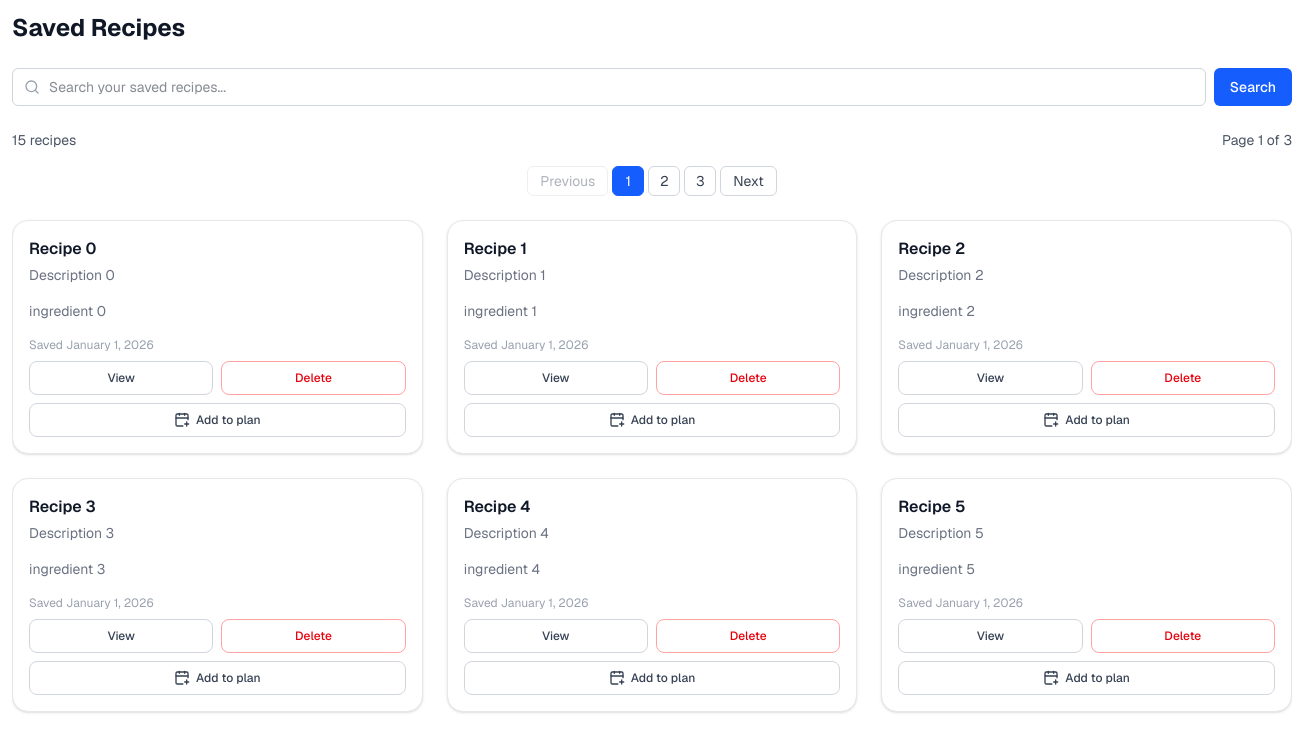
it: RecipesPage › resets to page 1 and filters when a search is submitted
This screenshot has width=1304, height=732.
Go to page 2 first.
Click the button named "Go to page 2" at [664, 181], box [648,166,680,196]
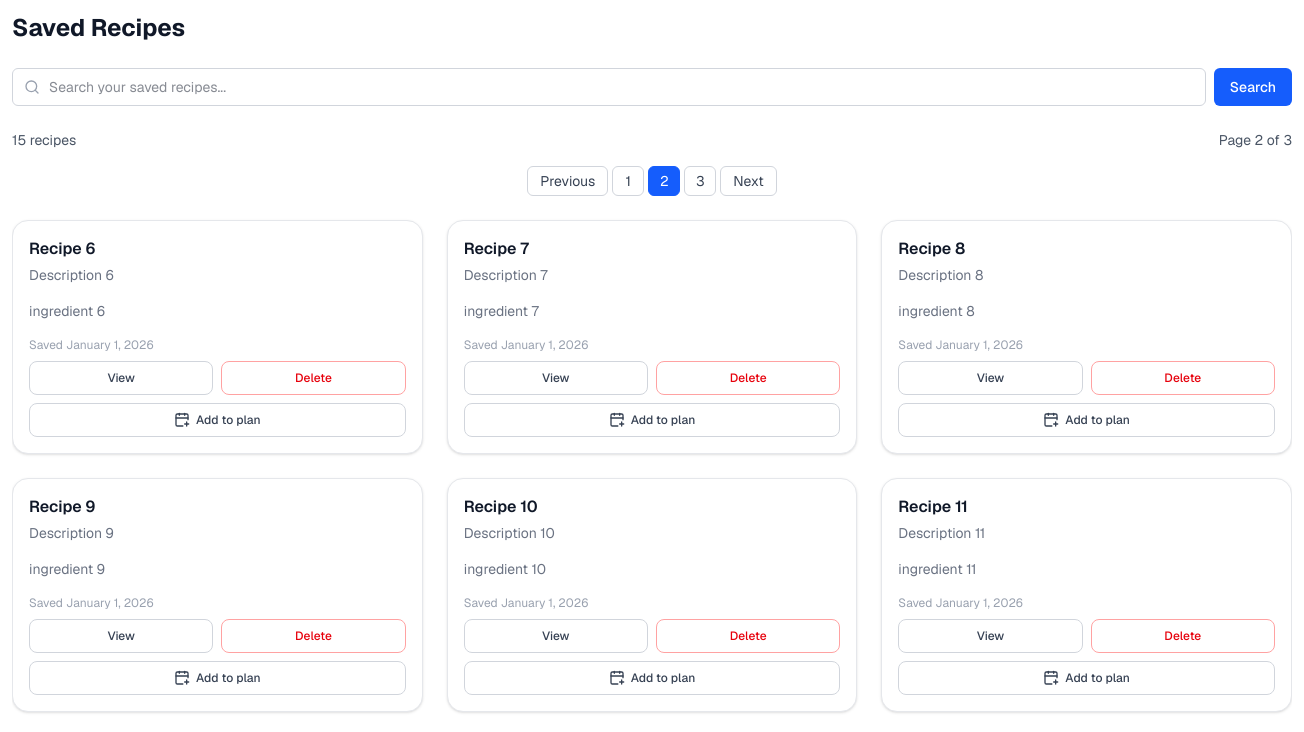
expect the text "Page 2 of 3" is shown: met, box [1219,130,1292,150]
Type "Recipe" into the field labelled "Search your saved recipes..." at [609, 87], box [12,68,1206,106]
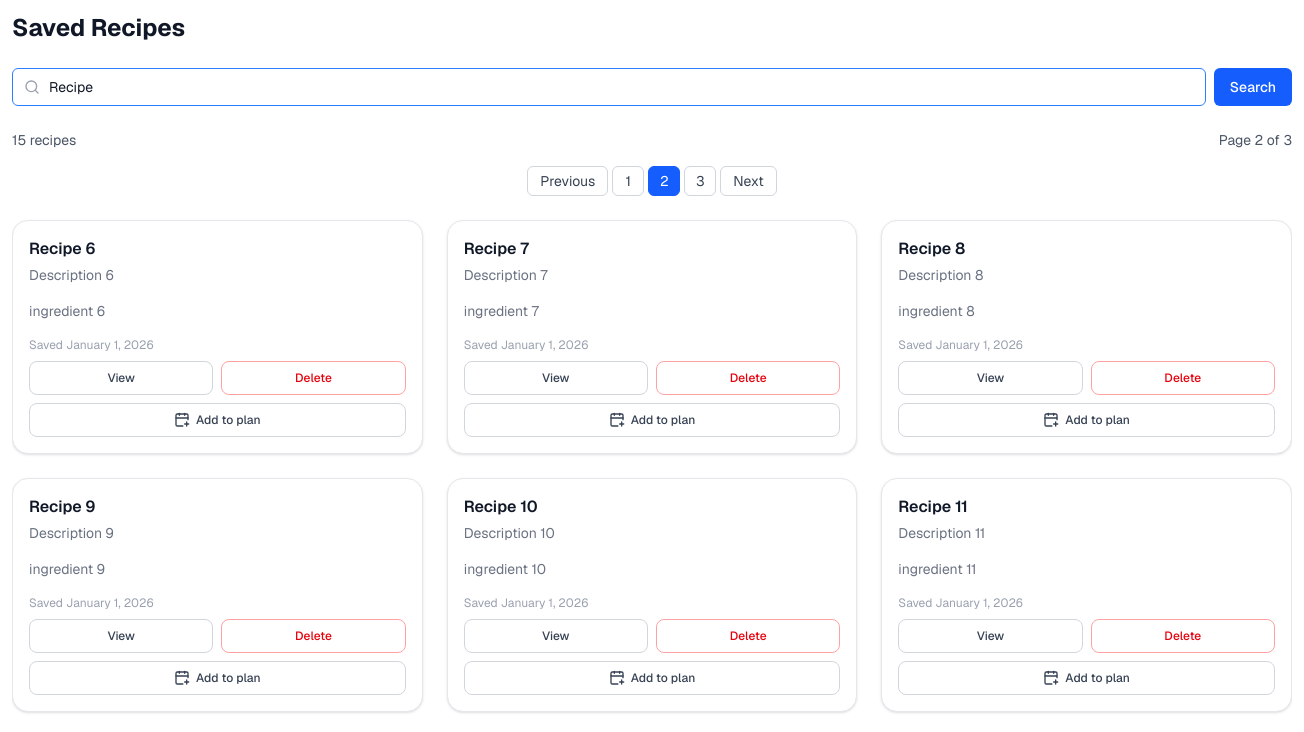
Click the button "Search" at [1253, 87], box [1214,68,1292,106]
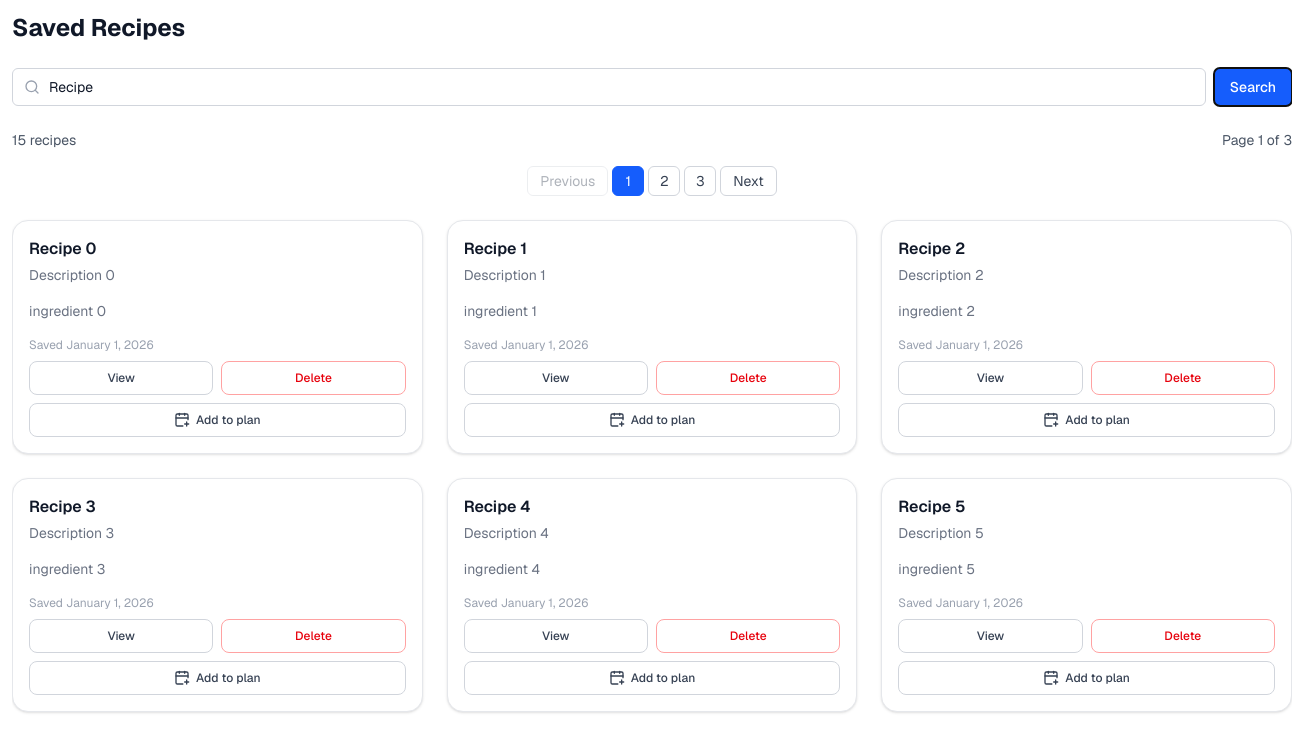
expect the text "Page 1 of 3" is shown: met, box [1222,130,1292,150]
expect the heading "Recipe 0" is shown: met, box [29,238,96,259]
